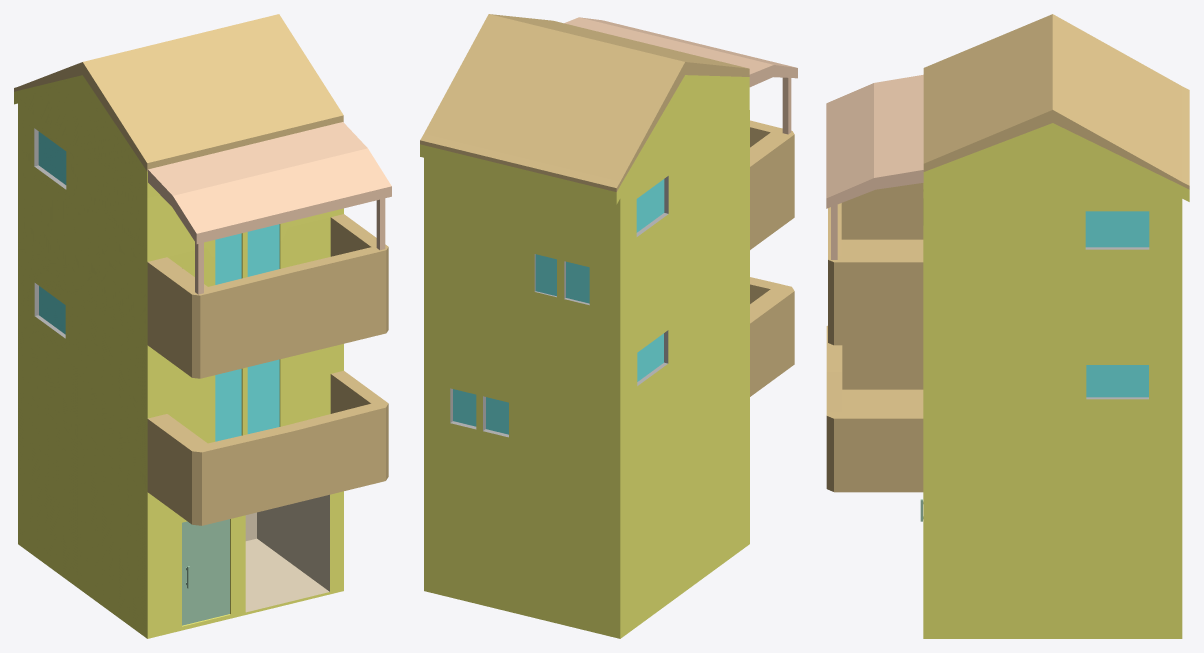
Rendered from house2.fbx.
3 renders of one model, left to right at view 1: azimuth 30°, elevation 25°; view 2: azimuth 150°, elevation 25°; view 3: azimuth 270°, elevation 25°, orthographic.
Visible parts, largest first — view 1: Cube.001; view 2: Cube.001; view 3: Cube.001.
Part boxes in pixels (x1,y1,x2,y2): Cube.001: [14, 14, 391, 638]; Cube.001: [420, 14, 797, 638]; Cube.001: [826, 14, 1189, 638].
Size of the model in its own units: 70 by 180 by 112.
